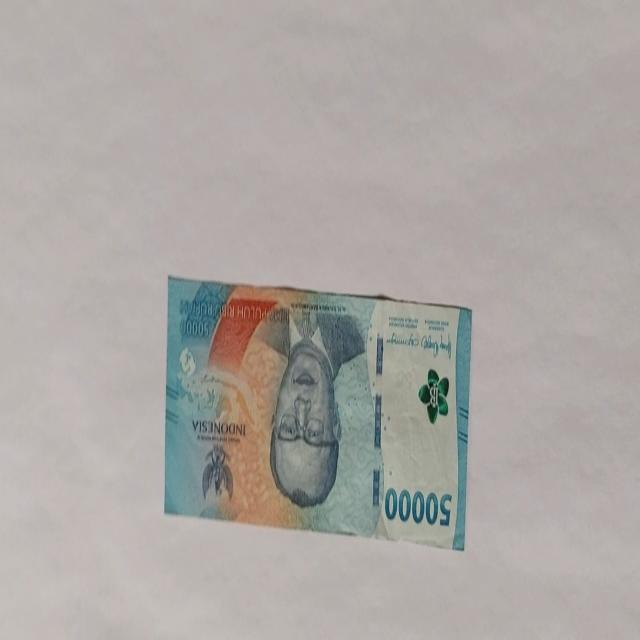lima puluh ribu rupiah: (164, 274, 472, 550)
